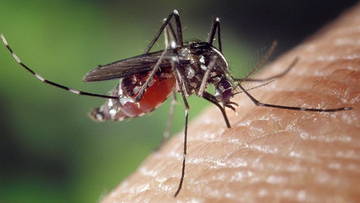dengue_mosquito: (1, 8, 277, 138)
